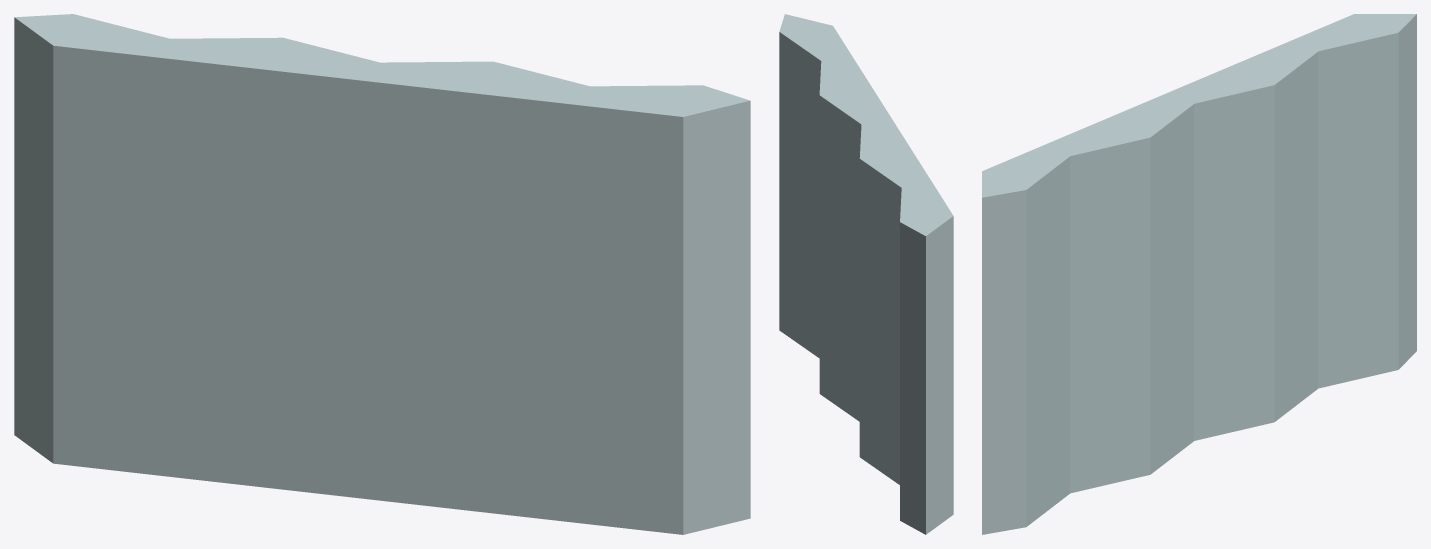
Rendered from cliff_diagonal_stone.glb.
3 renders of one model, left to right at view 1: azimuth 30°, elevation 25°; view 2: azimuth 150°, elevation 25°; view 3: azimuth 270°, elevation 25°, orthographic. The views are drawn at different scales.
Visible parts, largest first — view 1: cliff_diagonal_stone; view 2: cliff_diagonal_stone; view 3: cliff_diagonal_stone.
Part boxes in pixels (<box>): cliff_diagonal_stone: <box>14,14,750,534</box>; cliff_diagonal_stone: <box>779,14,953,534</box>; cliff_diagonal_stone: <box>982,14,1416,534</box>.
Size of the model in its own units: 1.17 by 1 by 1.17.
